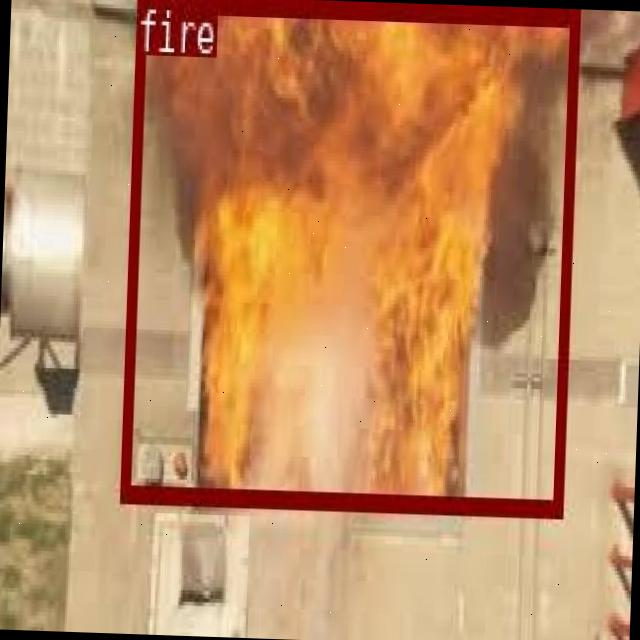fire: (120, 0, 576, 511)
